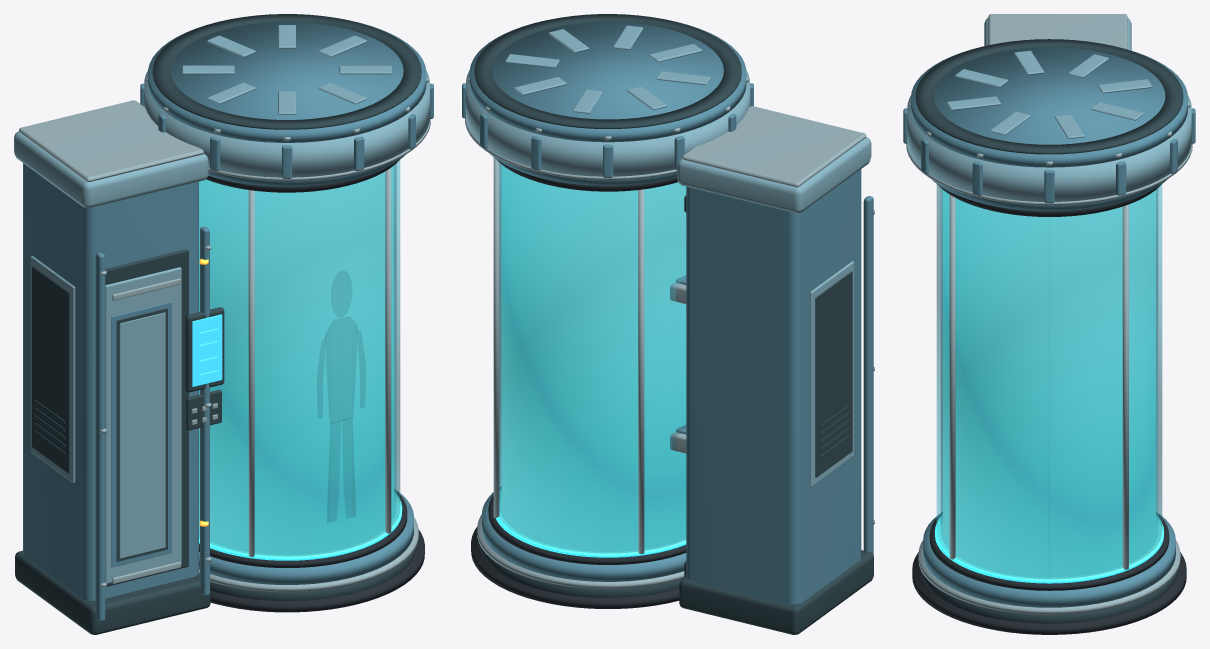
The model's file is BlueTube_FaintOccupant.glb.
3 renders of one model, left to right at view 1: azimuth 30°, elevation 25°; view 2: azimuth 150°, elevation 25°; view 3: azimuth 270°, elevation 25°, orthographic.
Parts seen in each view (by area): view 1: Tube_Glossy_cobalt_blue_enamel, Tube_Cyan_glass_shell, Tube_Cyan_energy_core, Tube_Worn_light_blue_panels, Tube_Recessed_graphite, Tube_Polished_steel_edge, Tube_Dark_rubber_gasket, Tube_Diagnostic_screen, Tube_Indicator_bright_cyan; view 2: Tube_Glossy_cobalt_blue_enamel, Tube_Cyan_glass_shell, Tube_Cyan_energy_core, Tube_Recessed_graphite, Tube_Worn_light_blue_panels, Tube_Polished_steel_edge, Tube_Dark_rubber_gasket, Tube_Indicator_bright_cyan; view 3: Tube_Cyan_glass_shell, Tube_Cyan_energy_core, Tube_Glossy_cobalt_blue_enamel, Tube_Worn_light_blue_panels, Tube_Polished_steel_edge, Tube_Recessed_graphite, Tube_Dark_rubber_gasket, Tube_Indicator_bright_cyan.
Boxes of the visible parts, <box> form: Tube_Glossy_cobalt_blue_enamel: <box>23,19,433,621</box>; Tube_Cyan_glass_shell: <box>199,160,400,556</box>; Tube_Cyan_energy_core: <box>199,165,393,553</box>; Tube_Worn_light_blue_panels: <box>14,25,429,583</box>; Tube_Recessed_graphite: <box>15,14,421,634</box>; Tube_Polished_steel_edge: <box>19,76,430,592</box>; Tube_Dark_rubber_gasket: <box>199,160,424,612</box>; Tube_Diagnostic_screen: <box>192,314,222,386</box>; Tube_Indicator_bright_cyan: <box>199,328,402,560</box>; Tube_Glossy_cobalt_blue_enamel: <box>462,19,873,604</box>; Tube_Cyan_glass_shell: <box>499,163,686,553</box>; Tube_Cyan_energy_core: <box>501,165,686,550</box>; Tube_Recessed_graphite: <box>474,14,873,634</box>; Tube_Worn_light_blue_panels: <box>466,25,871,486</box>; Tube_Polished_steel_edge: <box>465,76,874,588</box>; Tube_Dark_rubber_gasket: <box>471,159,686,608</box>; Tube_Indicator_bright_cyan: <box>495,490,686,557</box>; Tube_Cyan_glass_shell: <box>936,184,1162,578</box>; Tube_Cyan_energy_core: <box>943,190,1155,576</box>; Tube_Glossy_cobalt_blue_enamel: <box>903,46,1195,607</box>; Tube_Worn_light_blue_panels: <box>907,18,1191,201</box>; Tube_Polished_steel_edge: <box>906,14,1192,614</box>; Tube_Recessed_graphite: <box>915,39,1183,623</box>; Tube_Dark_rubber_gasket: <box>912,184,1186,634</box>; Tube_Indicator_bright_cyan: <box>935,515,1163,583</box>.
Bounding box in the file's own units: 9.44 × 12.1 × 6.63.
